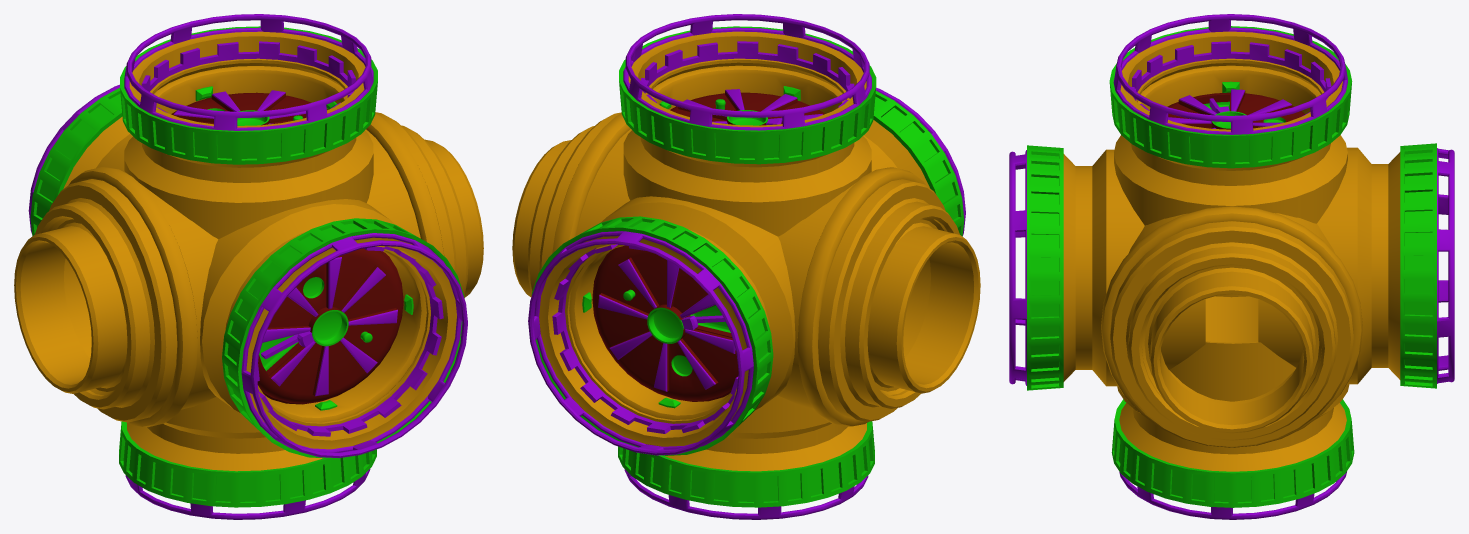
File: junction.obj
3 views of the same model, side by side, from view 1: azimuth 30°, elevation 25°; view 2: azimuth 150°, elevation 25°; view 3: azimuth 270°, elevation 25° (orthographic).
Visible parts, largest first — view 1: Cylinder.101_Material.062, Cylinder.101_Material.083, Cylinder.101_Material.079, Cylinder.101_Material.085; view 2: Cylinder.101_Material.062, Cylinder.101_Material.083, Cylinder.101_Material.079, Cylinder.101_Material.085; view 3: Cylinder.101_Material.062, Cylinder.101_Material.083, Cylinder.101_Material.079, Cylinder.101_Material.085.
Boxes of the visible parts, box(x1,y1,x2,y2) form: Cylinder.101_Material.062: box(14, 31, 483, 471); Cylinder.101_Material.083: box(30, 26, 464, 507); Cylinder.101_Material.079: box(28, 14, 467, 519); Cylinder.101_Material.085: box(171, 92, 403, 404); Cylinder.101_Material.062: box(512, 31, 980, 471); Cylinder.101_Material.083: box(531, 26, 964, 507); Cylinder.101_Material.079: box(528, 14, 965, 519); Cylinder.101_Material.085: box(592, 91, 824, 401); Cylinder.101_Material.062: box(1063, 31, 1400, 471); Cylinder.101_Material.083: box(1027, 26, 1436, 507); Cylinder.101_Material.079: box(1009, 14, 1454, 519); Cylinder.101_Material.085: box(1167, 91, 1305, 129).
Bounding box in the file's own units: 5.9 × 5.9 × 5.9.
